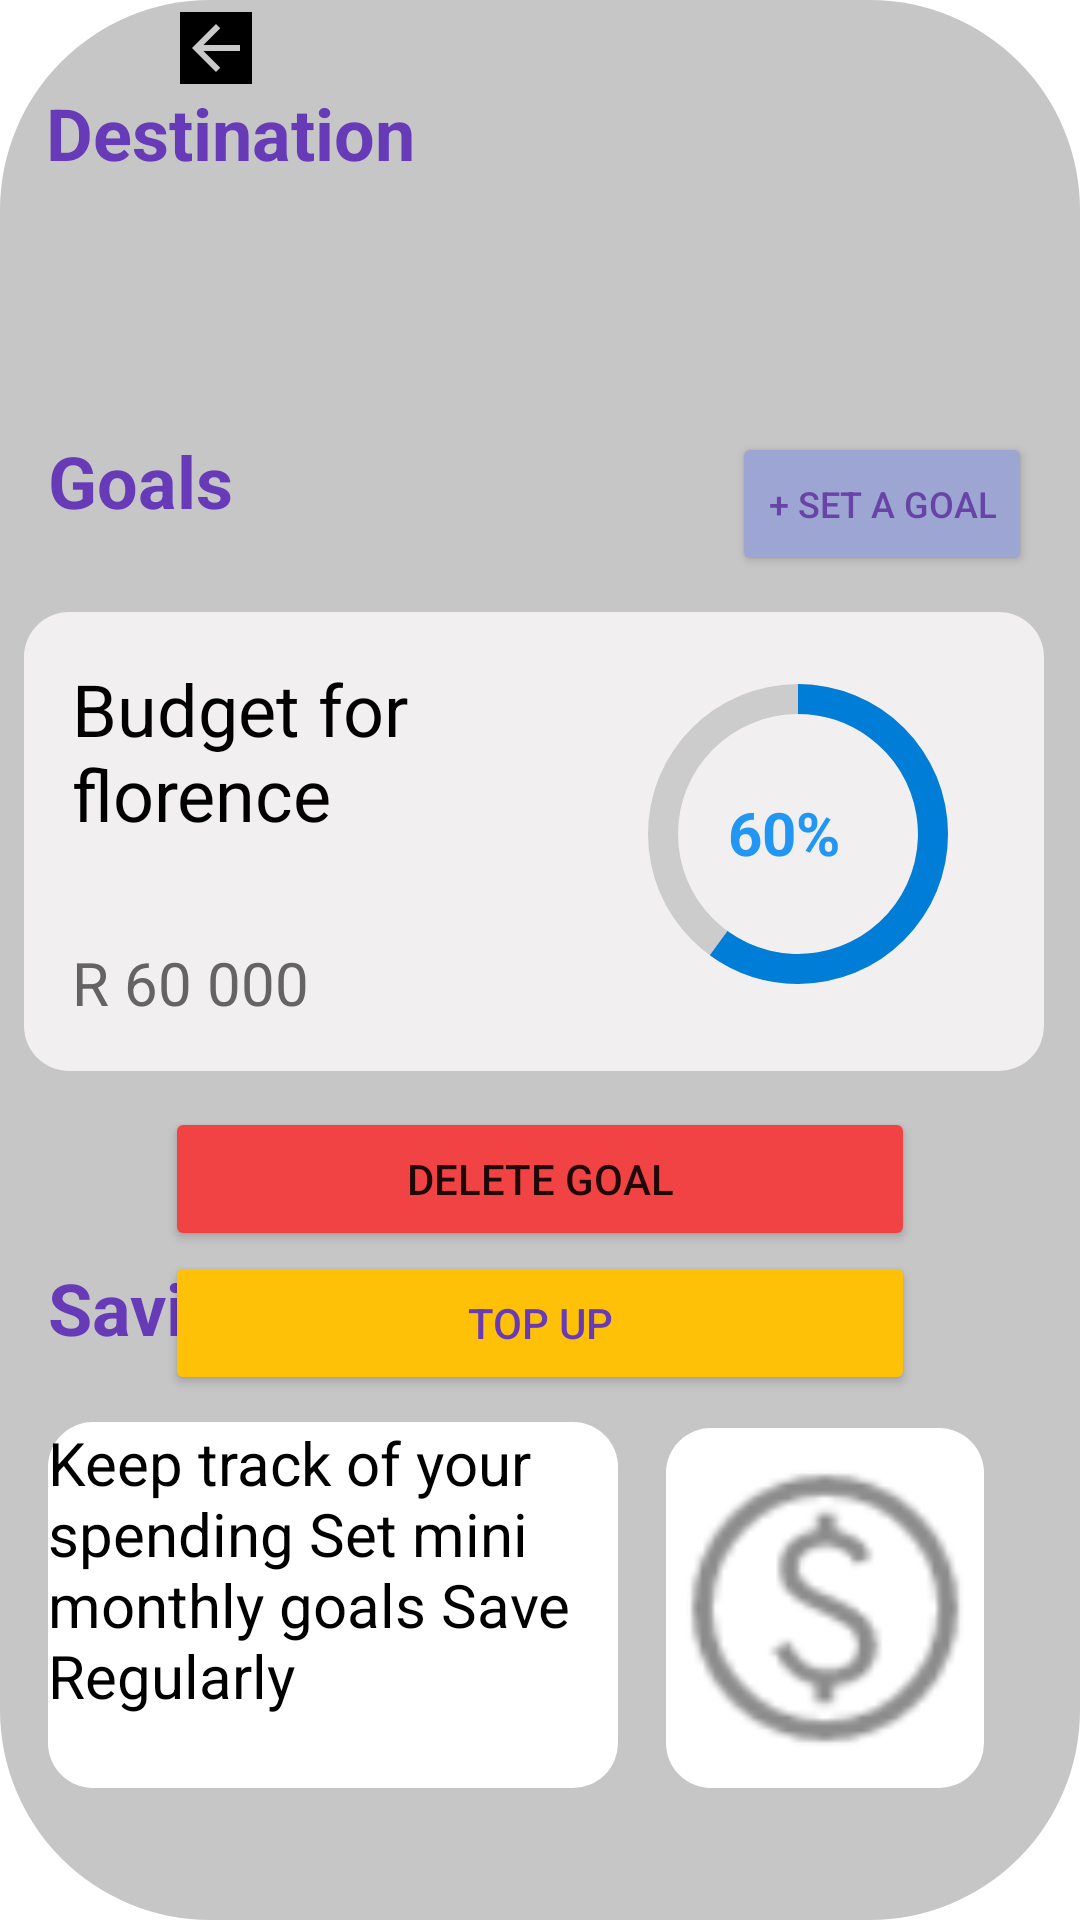

Named icons in this screenshot (1080px x 1920px) and their bounding boxes, (x1, y1, x2, y2):
arrow back: (180, 12, 252, 84)
paid symbol: (666, 1428, 984, 1788)
